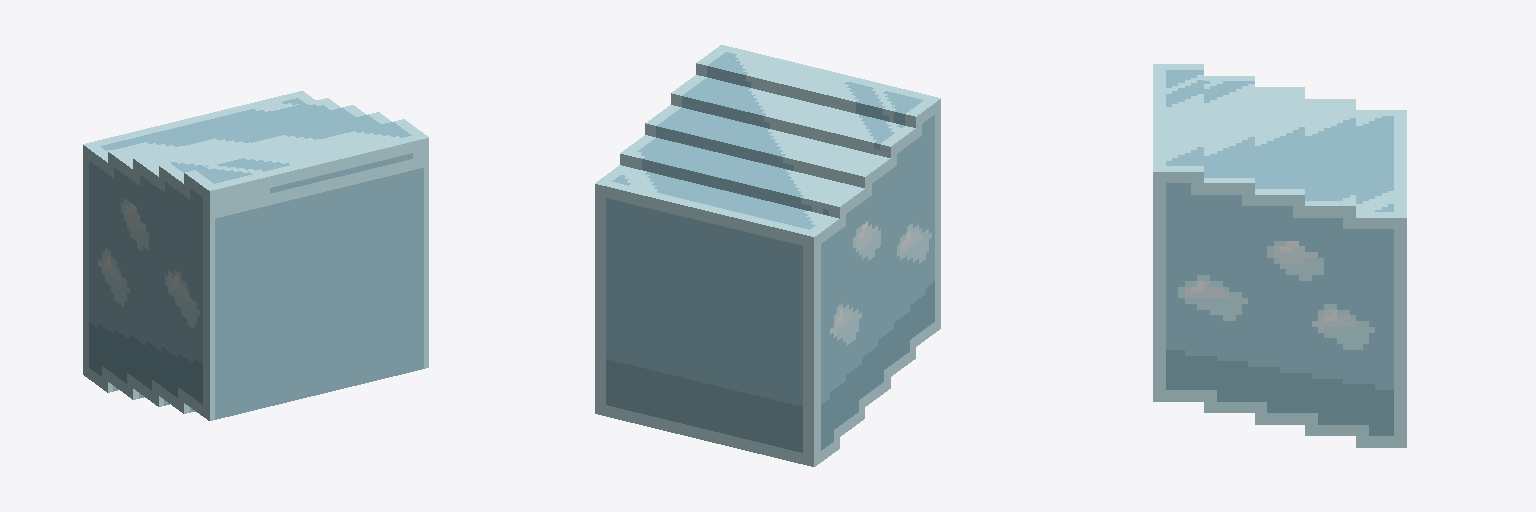
3 renders of one model, left to right at view 1: azimuth 30°, elevation 25°; view 2: azimuth 150°, elevation 25°; view 3: azimuth 270°, elevation 25°, orthographic.
Visible parts, largest first — view 1: object 1; view 2: object 1; view 3: object 1.
Part boxes in pixels (x1,y1,x2,y2): object 1: (83, 91, 428, 420); object 1: (595, 45, 940, 466); object 1: (1153, 64, 1406, 447).
Bounding box in the file's own units: 4 × 4.8 × 4.
1 materials, 1 textured.